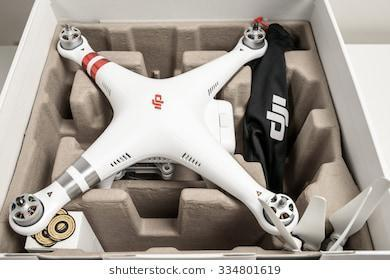drone: (6, 18, 301, 246)
